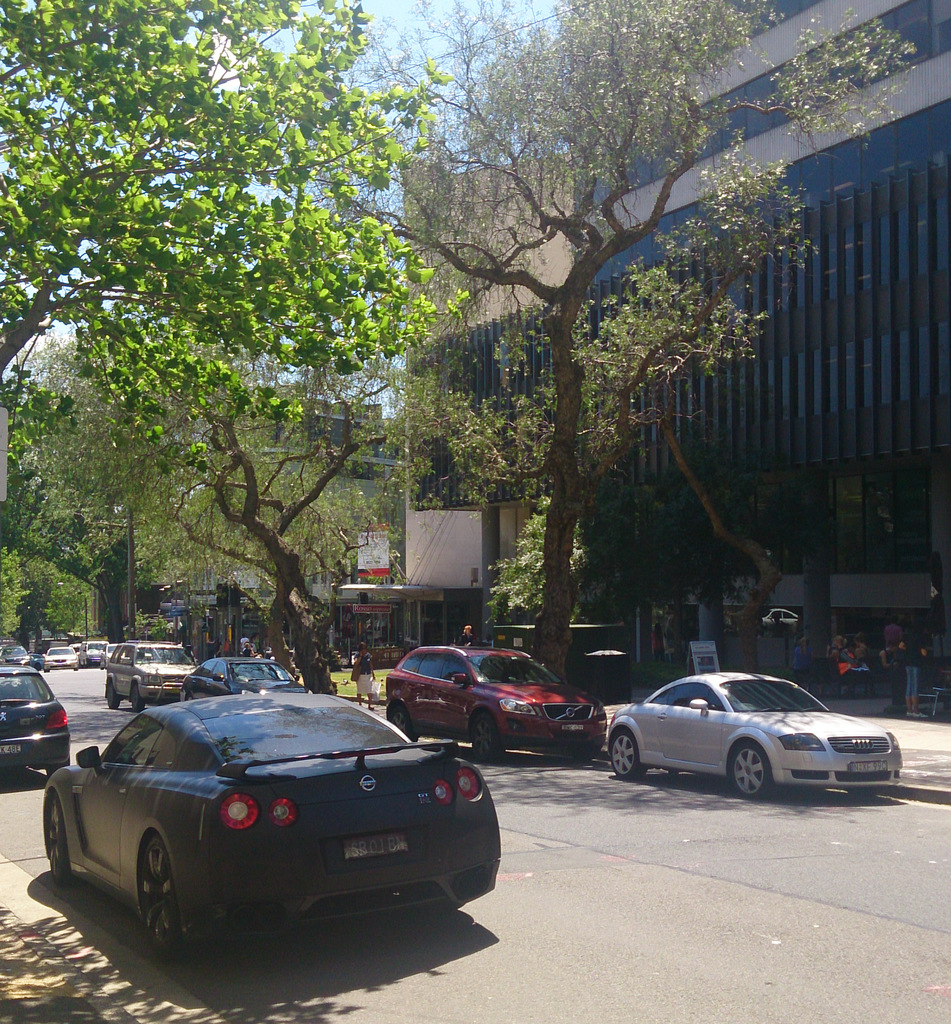Car: (32, 672, 509, 975), (601, 660, 901, 802), (384, 650, 600, 755), (0, 657, 60, 772), (101, 641, 206, 702), (185, 657, 292, 702)
